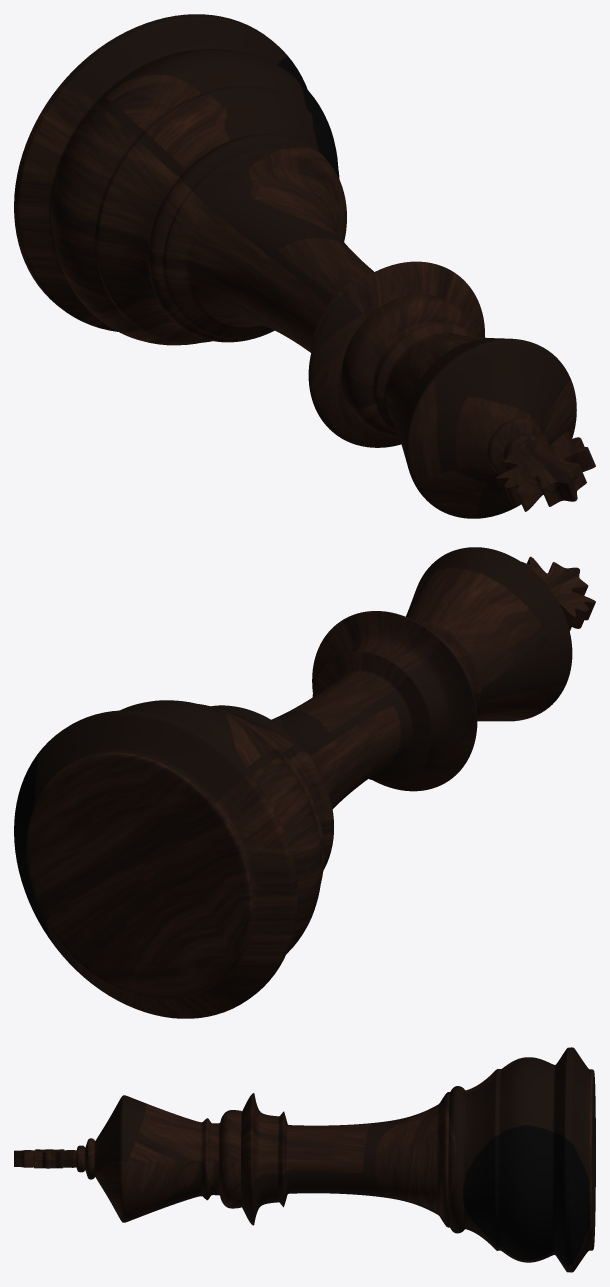
The model's file is black_king.glb.
3 views of the same model, one above another, from view 1: azimuth 30°, elevation 25°; view 2: azimuth 150°, elevation 25°; view 3: azimuth 270°, elevation 25° (orthographic). The views are drawn at different scales.
Parts seen in each view (by area): view 1: 12926_Wooden_Chess_King_Side_A_v1_l3; view 2: 12926_Wooden_Chess_King_Side_A_v1_l3; view 3: 12926_Wooden_Chess_King_Side_A_v1_l3.
Boxes of the visible parts, x1,y1,x2,y2 form: 12926_Wooden_Chess_King_Side_A_v1_l3: (14, 14, 595, 518); 12926_Wooden_Chess_King_Side_A_v1_l3: (14, 547, 595, 1018); 12926_Wooden_Chess_King_Side_A_v1_l3: (14, 1047, 595, 1272).
Bounding box in the file's own units: 4.5 × 4.5 × 11.65.
Materials: 1 (1 with a texture image).
